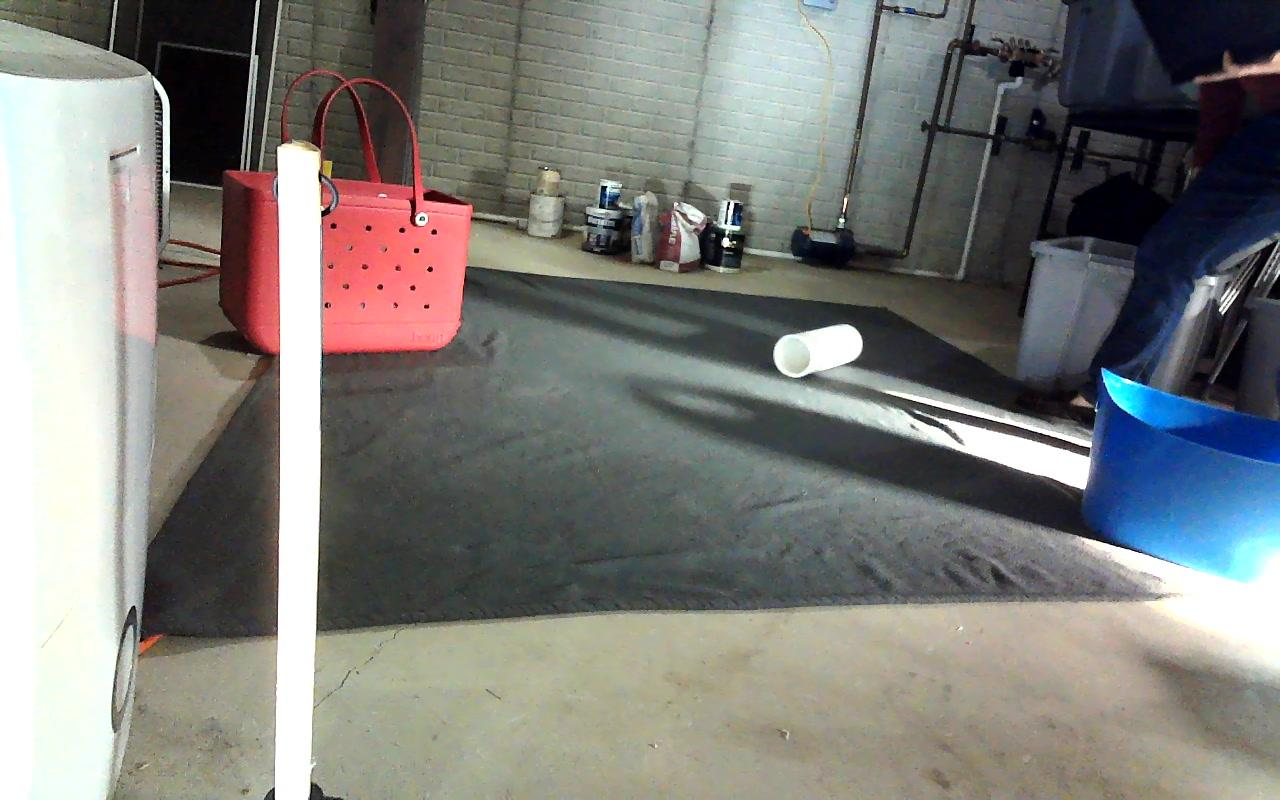coral: (772, 325, 862, 376)
